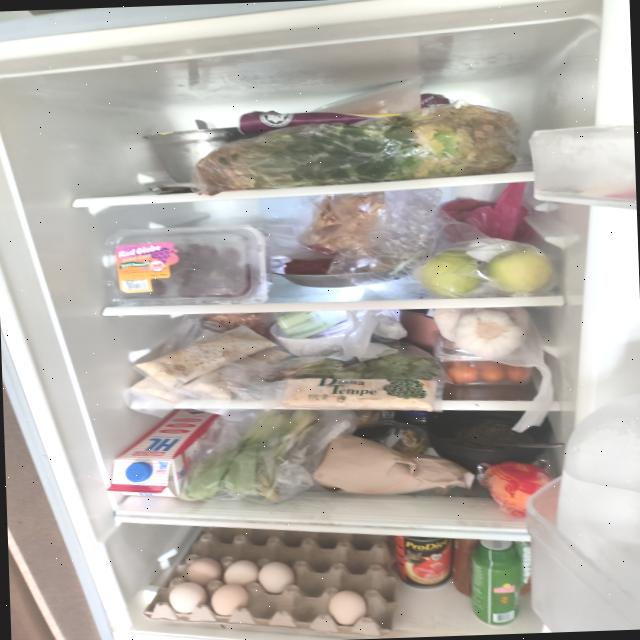apple: (416, 248, 482, 298), (486, 246, 552, 294)
egg: (142, 516, 399, 640)
garlic: (434, 304, 533, 362)
grape: (145, 240, 254, 300)
leafy_greens: (192, 102, 522, 192)
orange: (488, 460, 550, 516)
pakchoy: (180, 410, 320, 504)
tempeh: (127, 322, 293, 404), (282, 373, 438, 417)
